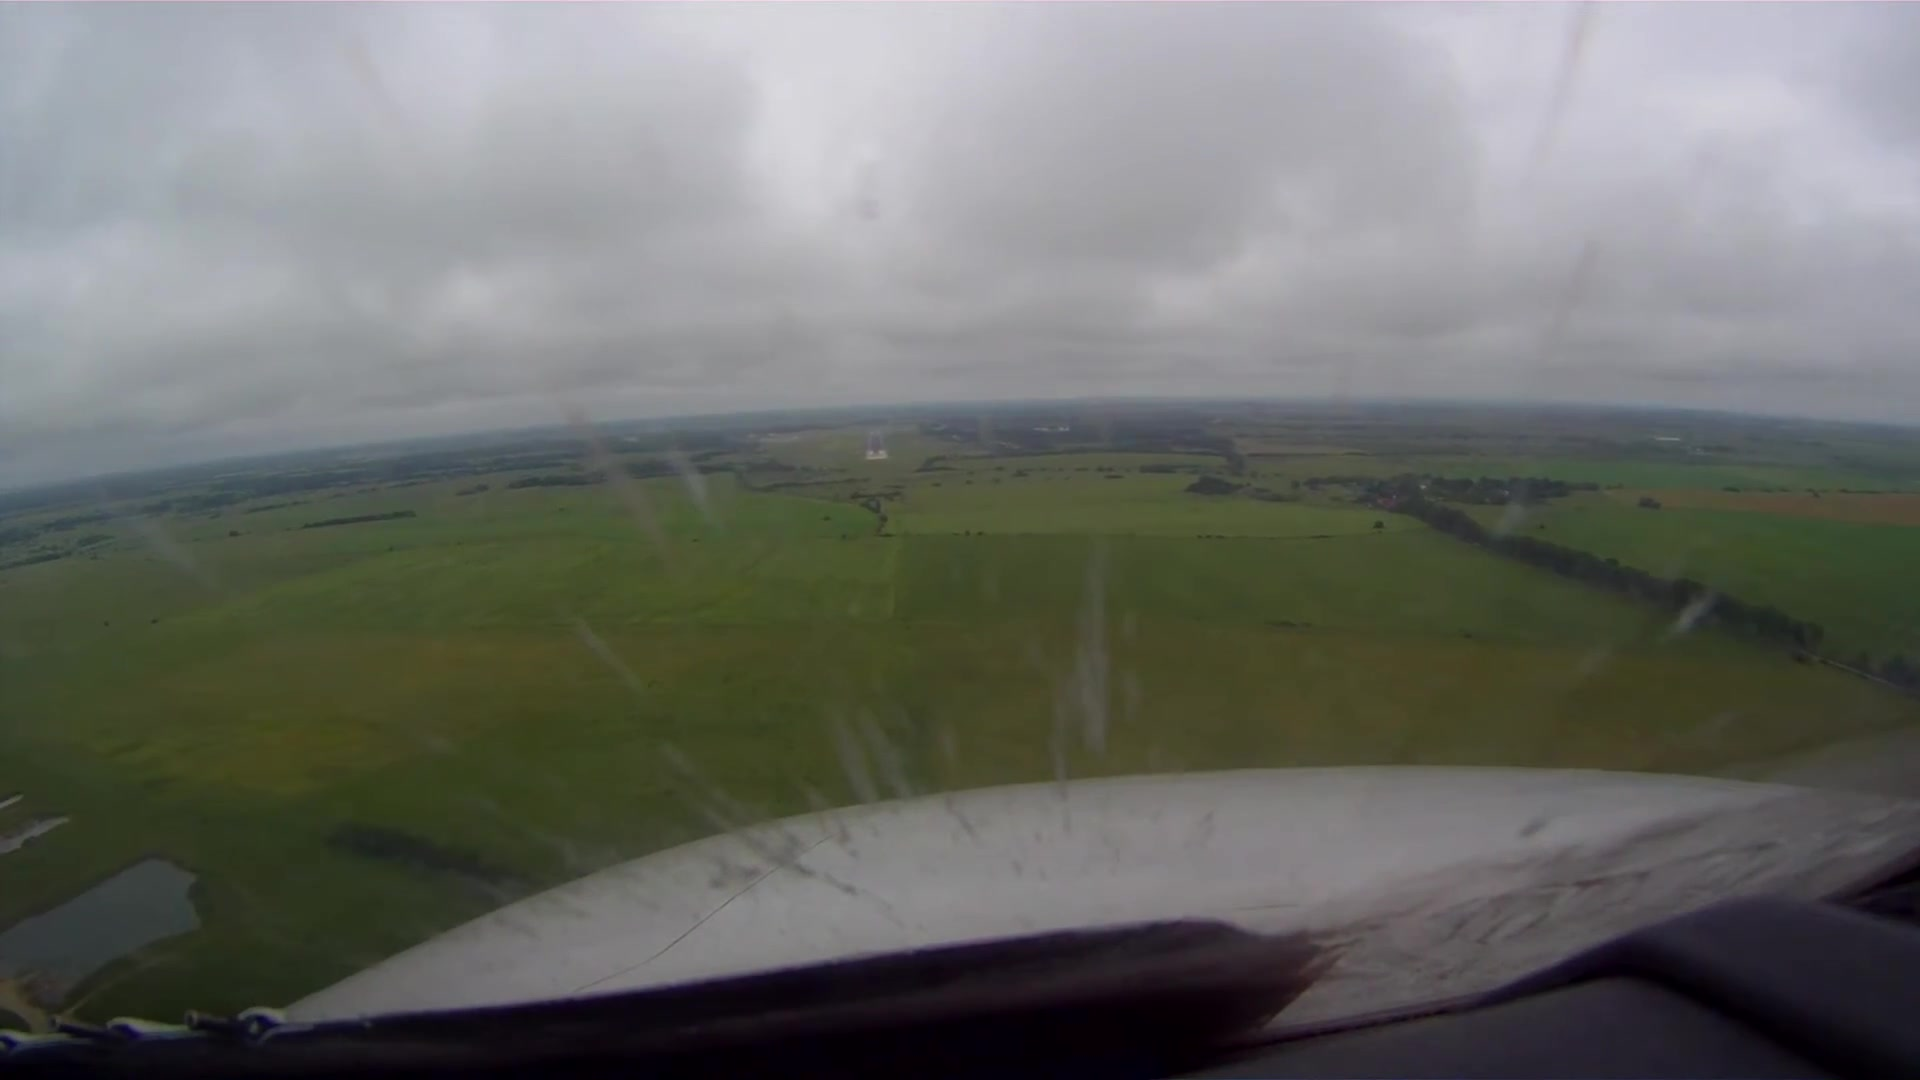runway: (862, 426, 890, 462)
